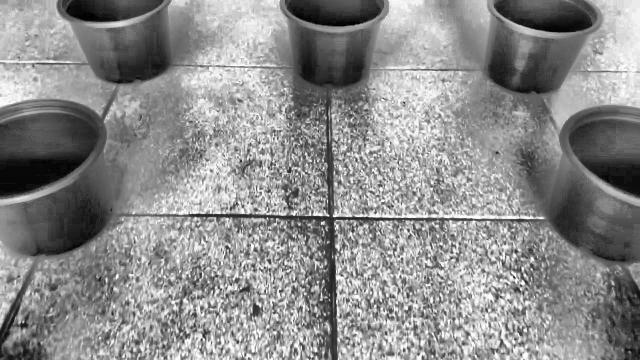pot: (0, 100, 114, 258), (547, 106, 640, 264), (483, 0, 603, 96), (55, 0, 173, 86), (280, 0, 389, 89)
